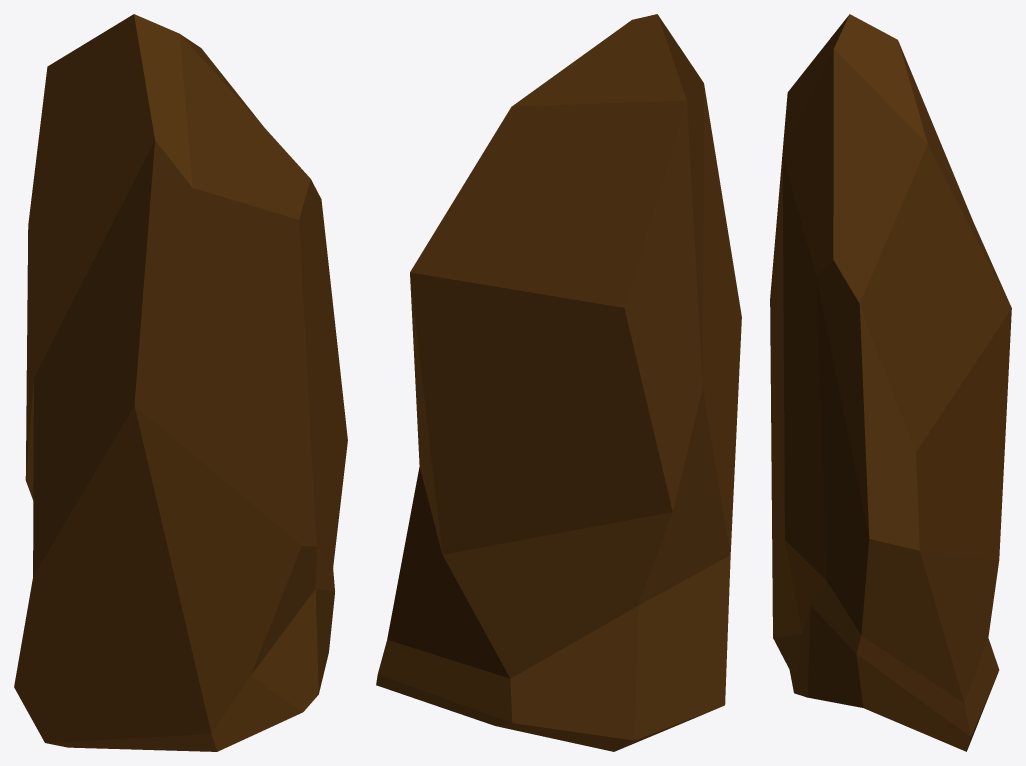
The model's file is Rock_D.fbx.
The picture shows the model from 3 angles, left to right: view 1: azimuth 30°, elevation 25°; view 2: azimuth 150°, elevation 25°; view 3: azimuth 270°, elevation 25°; orthographic projection. The views are drawn at different scales.
Parts seen in each view (by area): view 1: Rock_D; view 2: Rock_D; view 3: Rock_D.
Boxes of the visible parts, x1=… form: Rock_D: x1=14, y1=14, x2=347, y2=751; Rock_D: x1=376, y1=14, x2=741, y2=751; Rock_D: x1=770, y1=14, x2=1011, y2=751.
Size of the model in its own units: 1.43 by 1.05 by 3.1.
